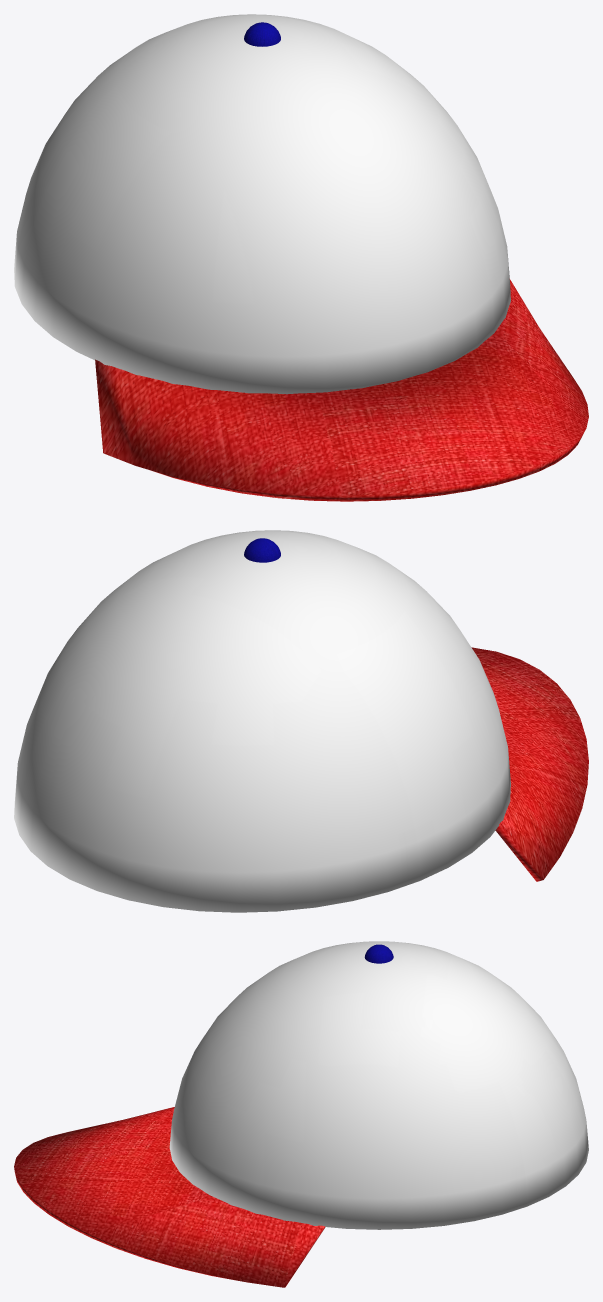
File: gorra.obj
The picture shows the model from 3 angles, top to bottom: view 1: azimuth 30°, elevation 25°; view 2: azimuth 150°, elevation 25°; view 3: azimuth 270°, elevation 25°; orthographic projection. The views are drawn at different scales.
Visible parts, largest first — view 1: Copa, Visera, Boton; view 2: Copa, Visera, Boton; view 3: Copa, Visera.
Part boxes in pixels (x1,y1,x2,y2): Copa: (14,14,510,394); Visera: (95,279,588,501); Boton: (244,22,280,46); Copa: (14,530,510,912); Visera: (471,647,588,881); Boton: (244,538,280,562); Copa: (169,941,588,1229); Visera: (14,1107,325,1287).
Size of the model in its own units: 0.6011 by 0.4353 by 0.8712.
Materials: 3 (3 with a texture image).
